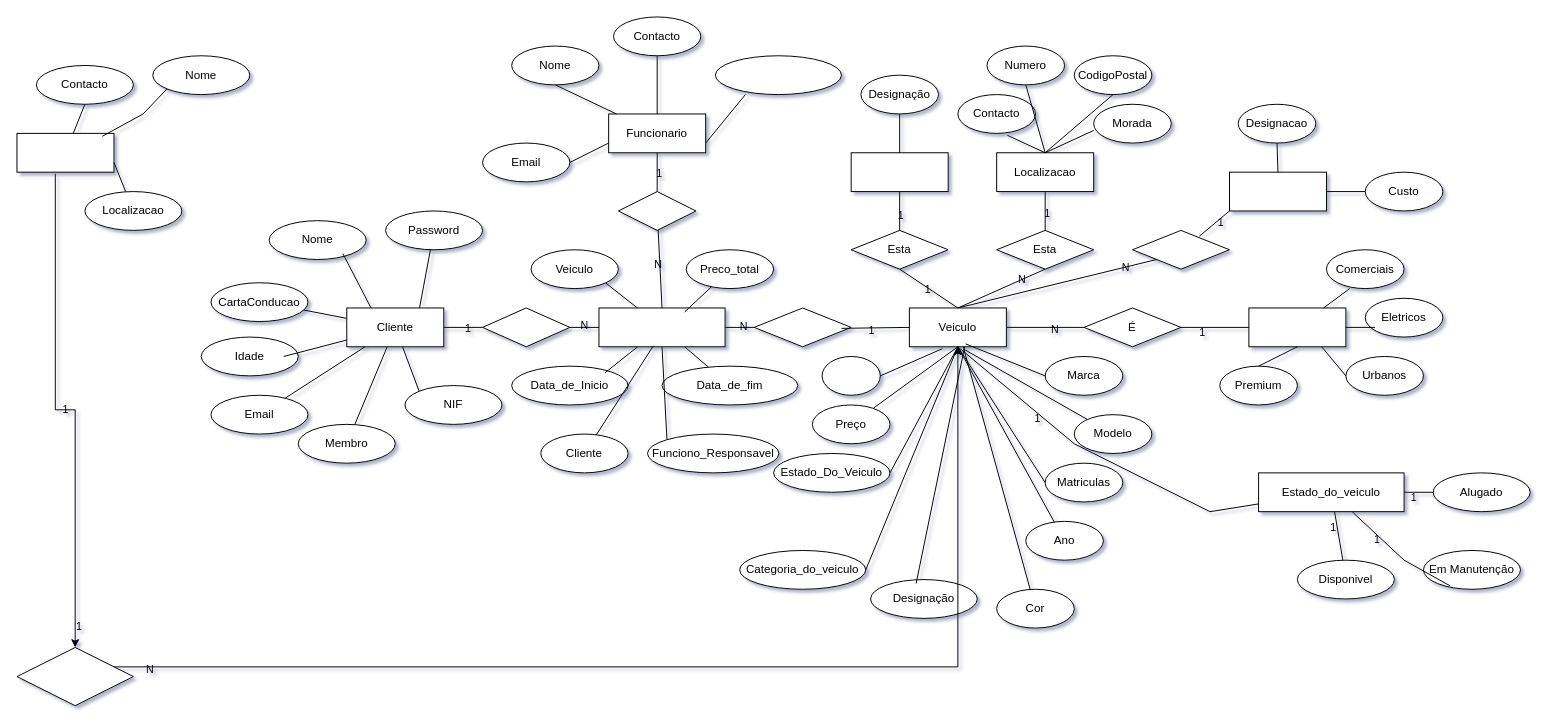
Image size: 1553x728. Some labels were removed from this diagram. The box of each missing label's shape, as (x1, y1, x2, y2) in pixels:
Agencia_de_Atuacao: (714, 55, 841, 95)
Agencias: (16, 132, 114, 172)
Categoria: (1248, 307, 1346, 347)
Contem: (753, 307, 851, 347)
Disponibilidade: (850, 152, 948, 192)
Fala: (617, 191, 696, 230)
Faz: (482, 307, 570, 347)
Km: (821, 356, 880, 395)
Pertence: (16, 647, 133, 706)
Registo_de_Aluguer: (598, 307, 725, 347)
Seguro: (1229, 171, 1326, 211)
Tem: (1132, 229, 1229, 269)
